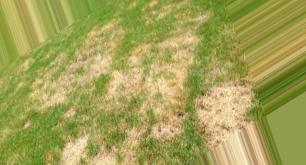patch: (117, 36, 186, 108), (57, 36, 111, 96), (195, 74, 248, 125)
